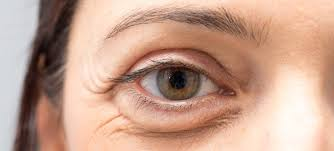pupil: (158, 66, 199, 99)
